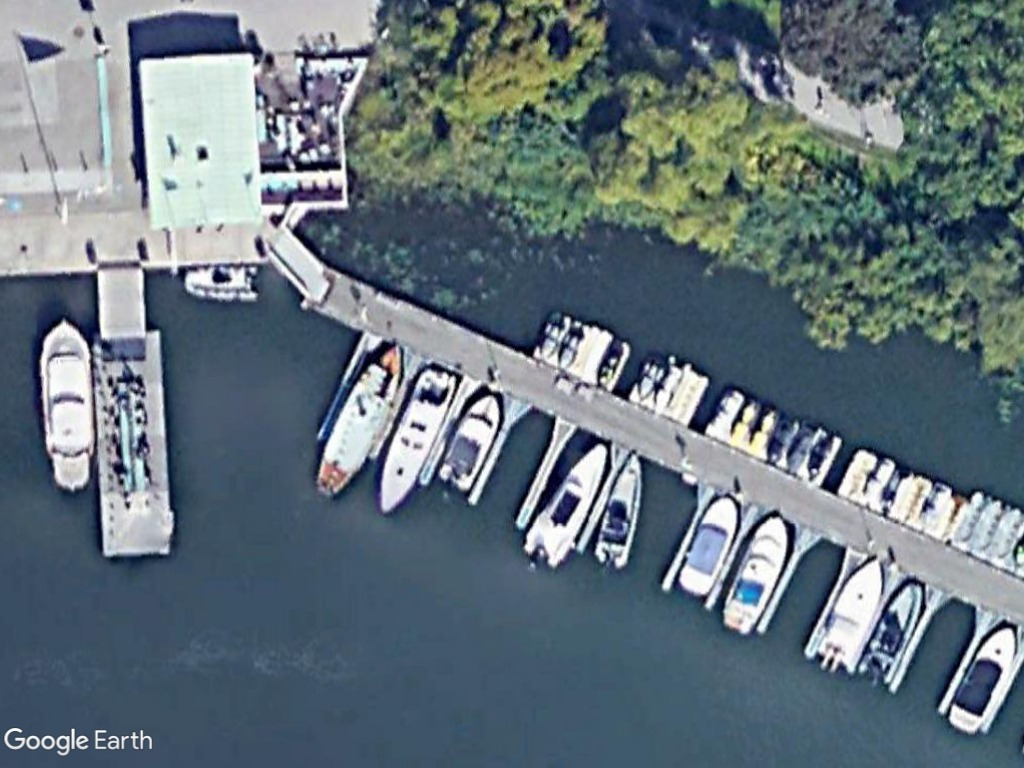boat: (309, 339, 410, 501), (370, 359, 460, 517), (34, 308, 106, 500), (517, 438, 613, 573), (715, 510, 793, 634), (949, 620, 1024, 736), (856, 576, 927, 692), (433, 385, 504, 497), (675, 491, 741, 604), (589, 449, 649, 570)
